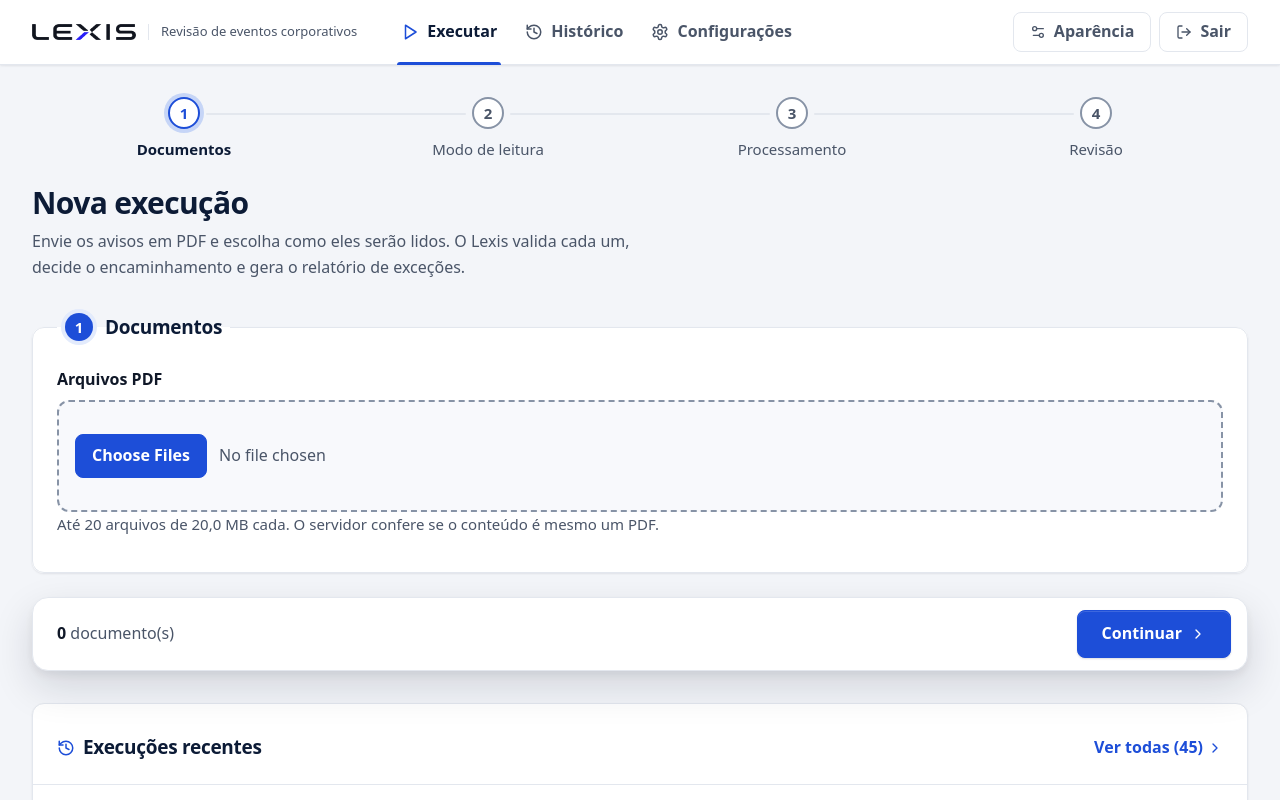
it: Histórico › fica no menu no lugar da avaliação e pagina 20 por vez
Click the link "Histórico" at (574, 31), box x1=525 y1=20 x2=623 y2=42
(page scrolled)
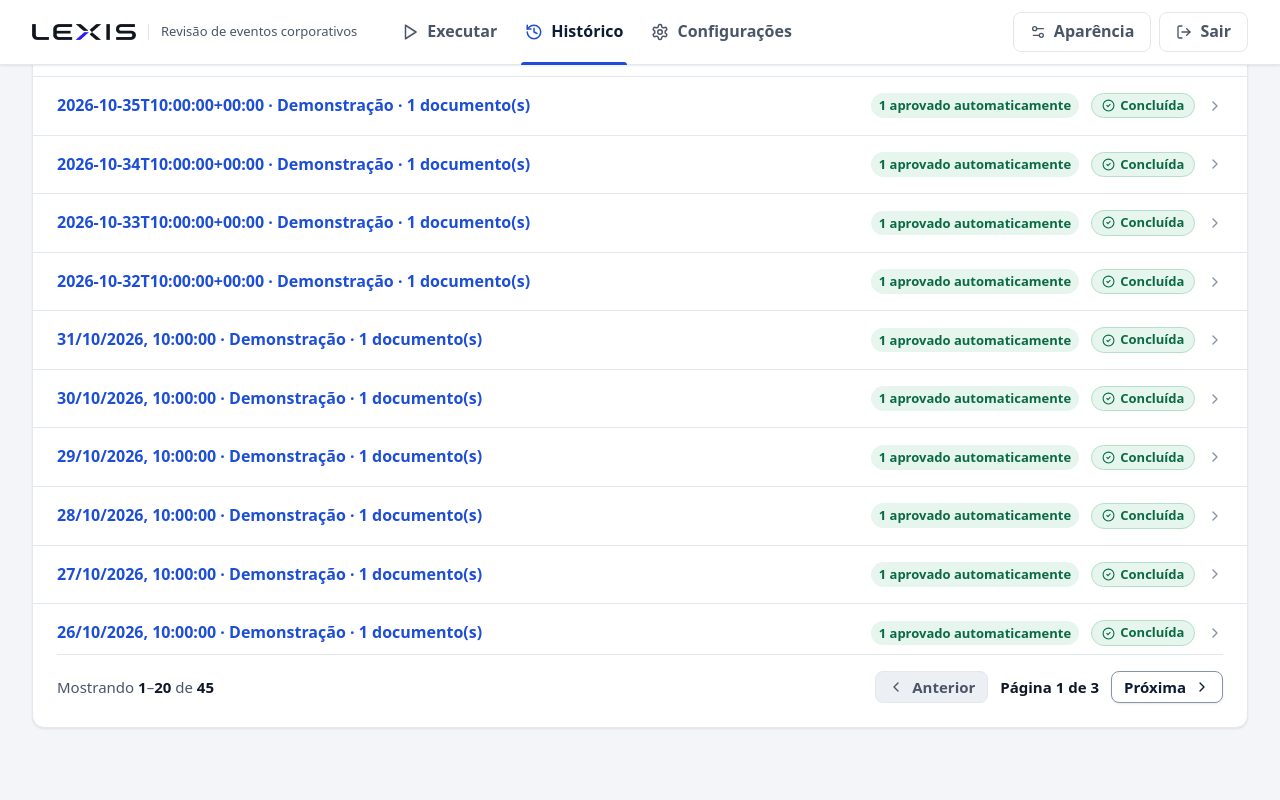
Result: the navigation bar named "Paginação" shows "Mostrando 1–20 de 45" at x1=57 y1=654 x2=1223 y2=703
Result: the text "Página 1 de 3" is shown at x1=1000 y1=675 x2=1099 y2=699
Result: the button "Anterior" is disabled at x1=875 y1=671 x2=988 y2=703
Click the button "Próxima" at (1167, 687), box x1=1111 y1=671 x2=1223 y2=703
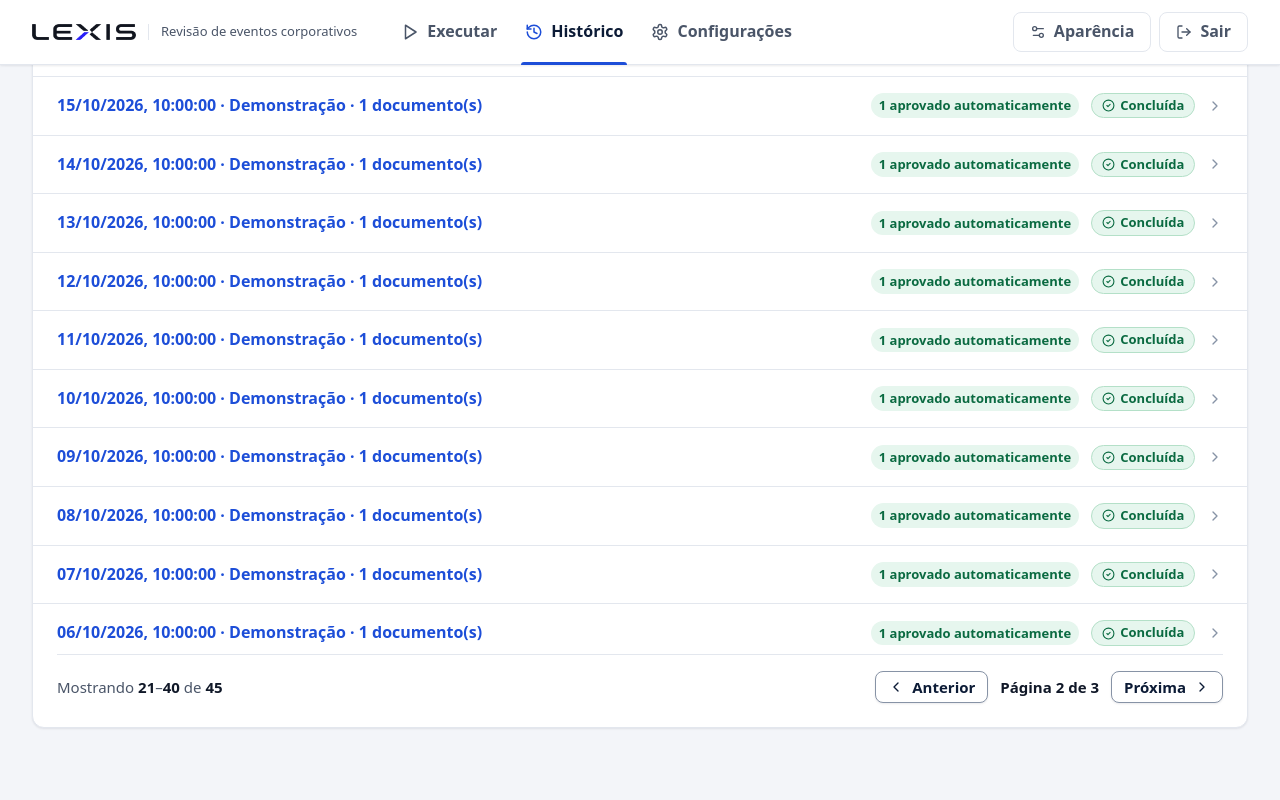
Result: the navigation bar named "Paginação" shows "Mostrando 21–40 de 45" at x1=57 y1=654 x2=1223 y2=703
Click the button "Próxima" at (1167, 687), box x1=1111 y1=671 x2=1223 y2=703
(page scrolled)
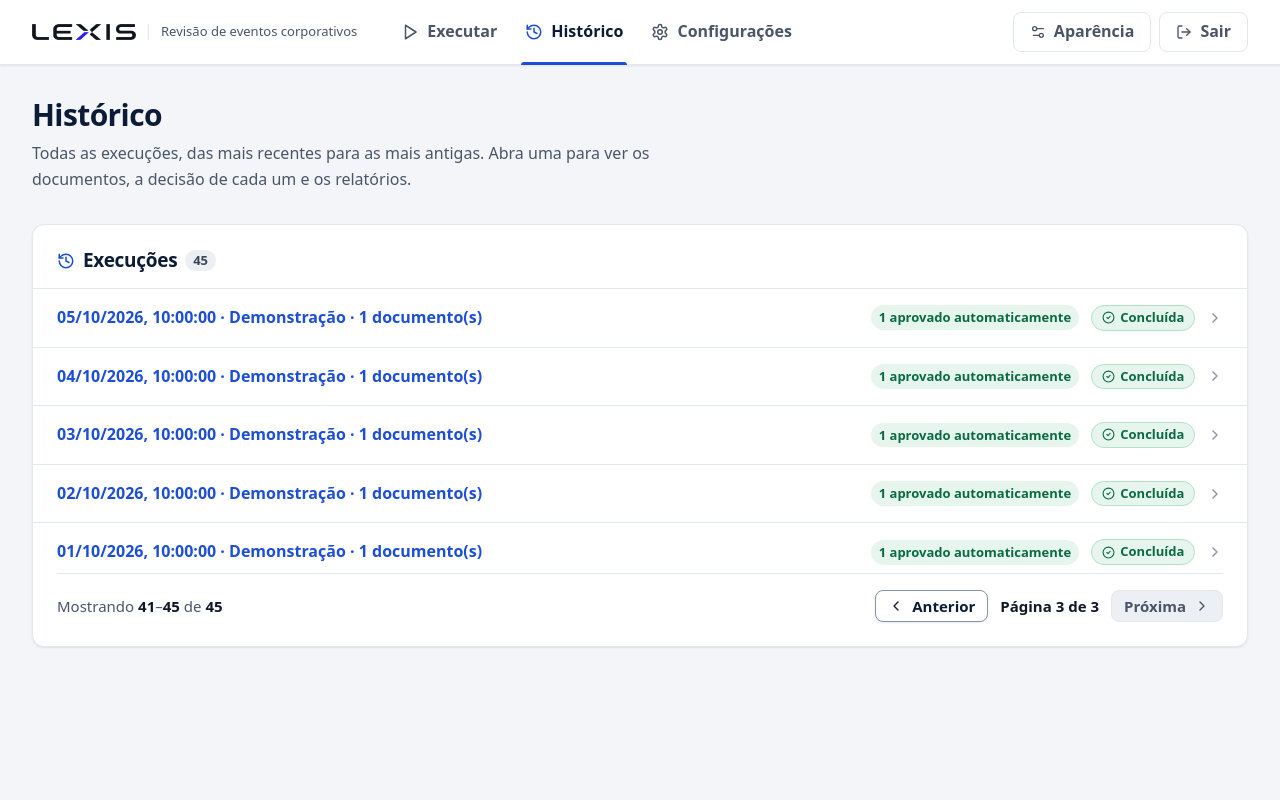
Result: the navigation bar named "Paginação" shows "Mostrando 41–45 de 45" at x1=57 y1=573 x2=1223 y2=622
Result: the button "Próxima" is disabled at x1=1111 y1=590 x2=1223 y2=622
Result: the number of links "05/10/2026, 10:00:00 · Demonstração · 1 documento(s)" is 5 at x1=57 y1=305 x2=482 y2=331; x1=57 y1=364 x2=482 y2=389; x1=57 y1=422 x2=482 y2=448; x1=57 y1=481 x2=482 y2=506; x1=57 y1=539 x2=482 y2=565
